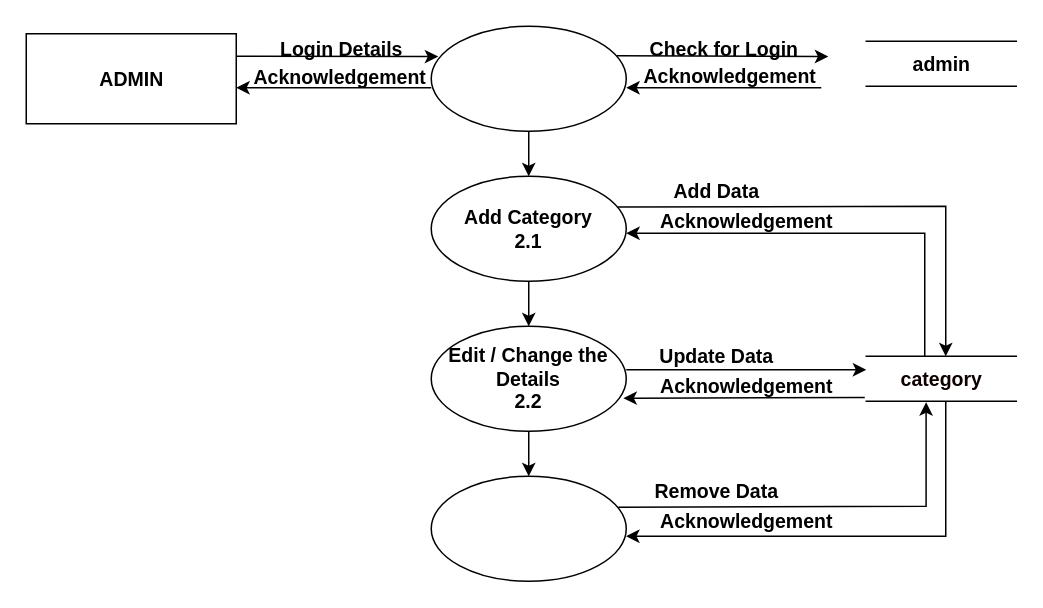
The diagram is 1043 pixels wide and 608 high, and some of its shapes have lost their labels. Each missing label, with the centre of its shape:
"Delete Category 2.3" goes at point (528, 528).
"Login 2.0" goes at point (528, 78).
